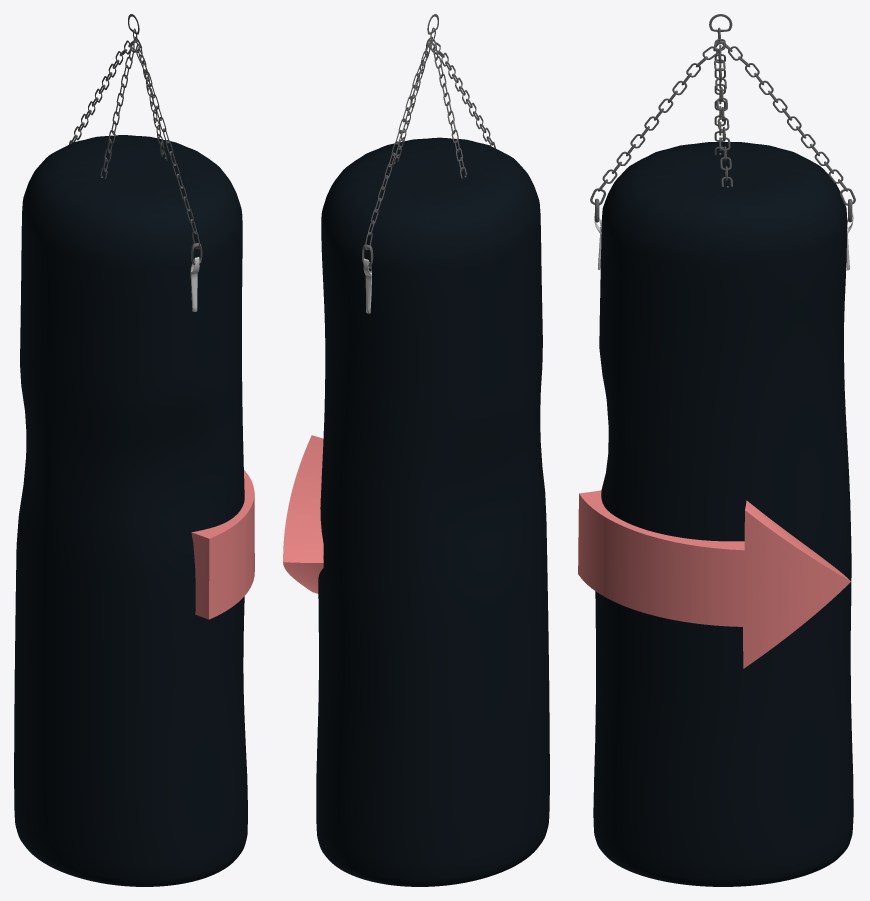
Rendered from BIG_PunchingBag_and_Arrows.fbx.
3 renders of one model, left to right at view 1: azimuth 30°, elevation 25°; view 2: azimuth 150°, elevation 25°; view 3: azimuth 270°, elevation 25°, orthographic.
Visible parts, largest first — view 1: SAC, RIGHT_ARROW_1, CHAINE; view 2: SAC, RIGHT_ARROW_1, CHAINE; view 3: SAC, RIGHT_ARROW_1, CHAINE.
Boxes of the visible parts, box(x1,y1,x2,y2) form: SAC: box(14, 135, 247, 886); RIGHT_ARROW_1: box(191, 470, 254, 619); CHAINE: box(69, 14, 202, 264); SAC: box(316, 137, 549, 886); RIGHT_ARROW_1: box(283, 435, 323, 593); CHAINE: box(362, 14, 495, 266); SAC: box(593, 142, 853, 886); RIGHT_ARROW_1: box(578, 490, 850, 668); CHAINE: box(590, 14, 855, 222).
Size of the model in its own units: 489 by 1846 by 560.
